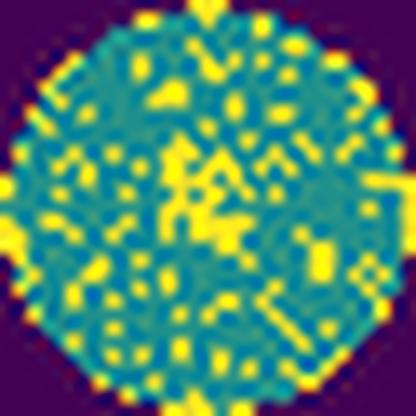Center: (150, 128, 266, 274)
